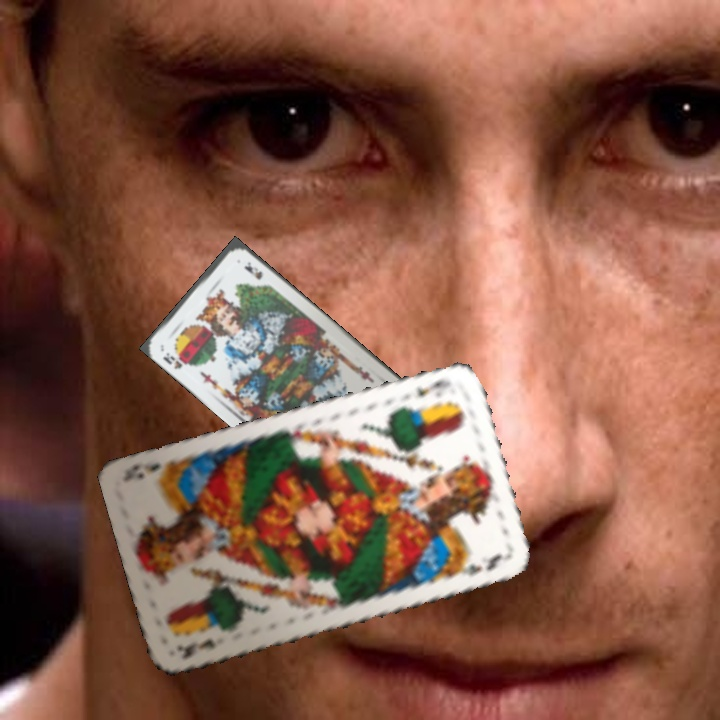EK: (173, 634, 219, 662), (412, 375, 454, 400)
SK: (159, 348, 195, 372)
